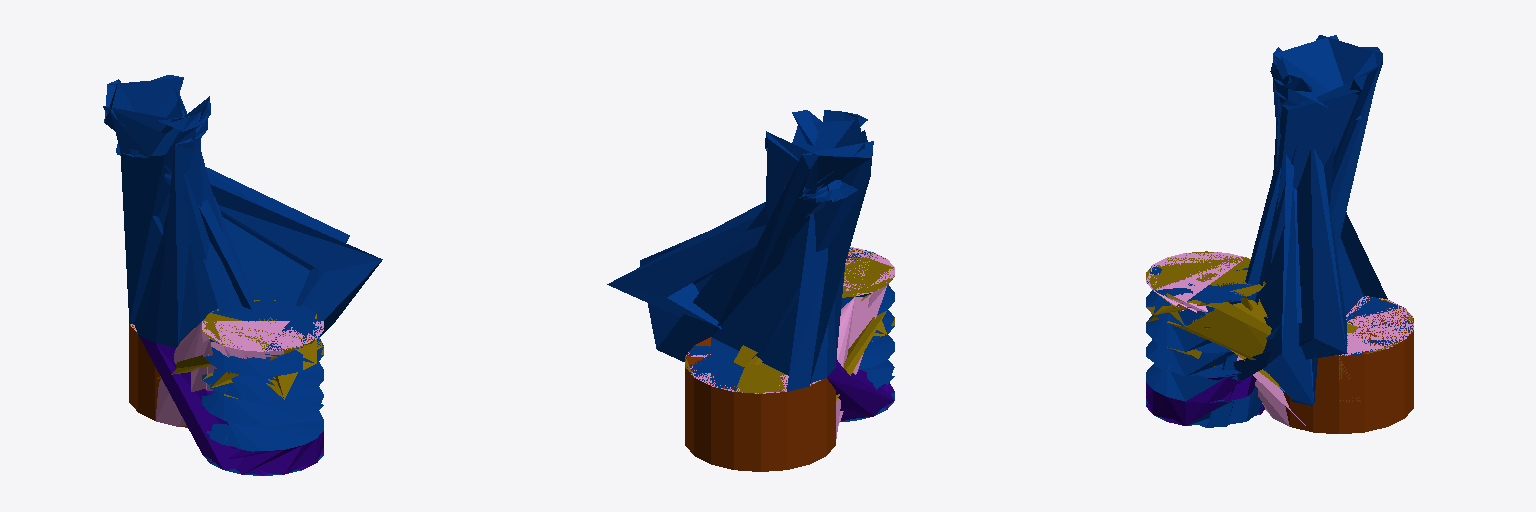
3 renders of one model, left to right at view 1: azimuth 30°, elevation 25°; view 2: azimuth 150°, elevation 25°; view 3: azimuth 270°, elevation 25°, orthographic.
Visible parts, largest first — view 1: Torus001, Tube001, Cone001, GeoSphere001, Cylinder001; view 2: Torus001, Cylinder001, GeoSphere001, Cone001, Tube001; view 3: Torus001, Cylinder001, GeoSphere001, Cone001, Tube001.
Part boxes in pixels (x1,y1,x2,y2): Torus001: (103, 75, 382, 475); Tube001: (139, 335, 323, 475); Cone001: (131, 321, 323, 426); GeoSphere001: (130, 300, 323, 399); Cylinder001: (129, 324, 187, 427); Torus001: (607, 110, 894, 421); Cylinder001: (685, 337, 835, 471); GeoSphere001: (685, 249, 894, 400); Cone001: (686, 247, 894, 438); Tube001: (827, 359, 894, 420); Torus001: (1146, 35, 1413, 427); Cylinder001: (1283, 298, 1413, 433); GeoSphere001: (1146, 251, 1412, 402); Cone001: (1146, 252, 1413, 426); Tube001: (1146, 373, 1264, 425).
Bounding box in the file's own units: 413 × 494 × 375.